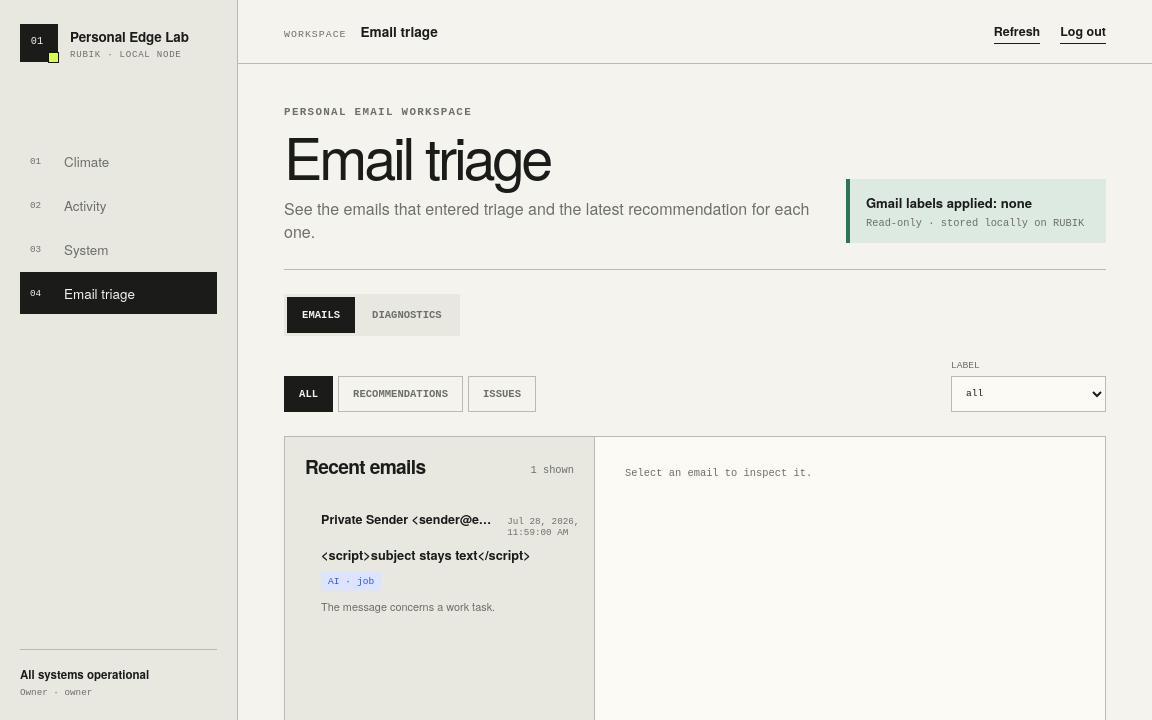
Test case: message-centric email-triage workspace › preserves the recent-email scroll position when an email is opened
The width and height of the screenshot is (1152, 720).
(page scrolled)
Click the button named "subject stays text".
click(440, 562)  # box [305,494,574,631]
(page scrolled)
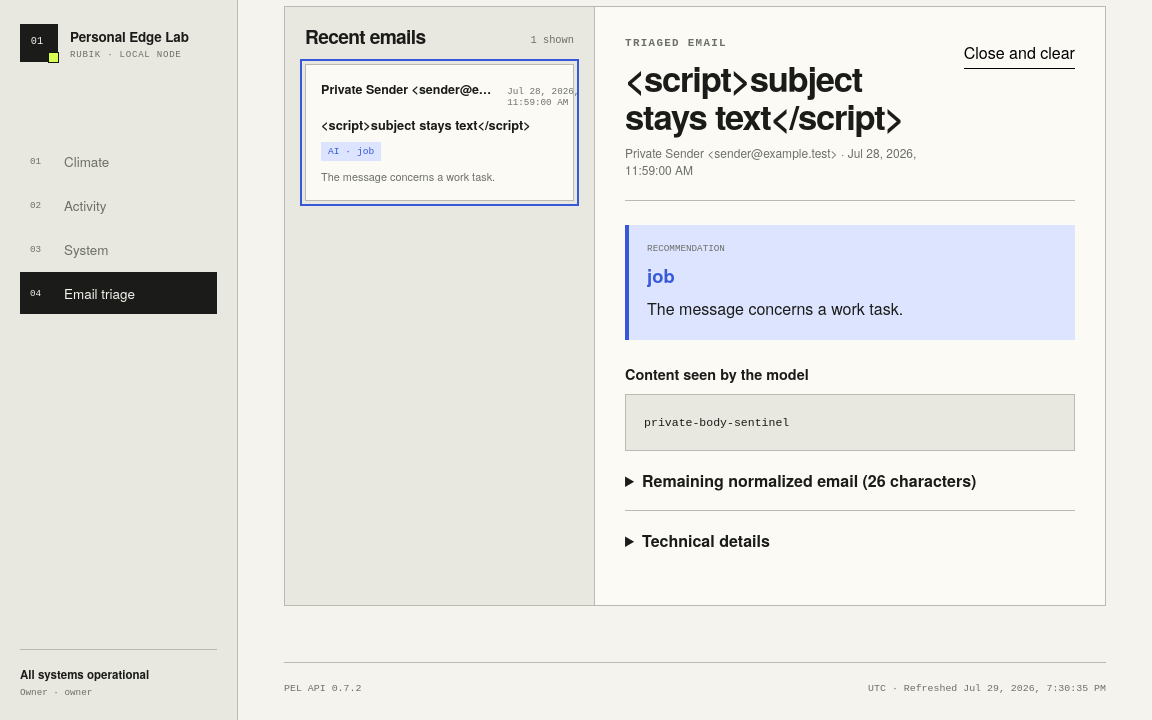
Result: the text "private-body-sentinel" is shown at [625,394,1075,451]
